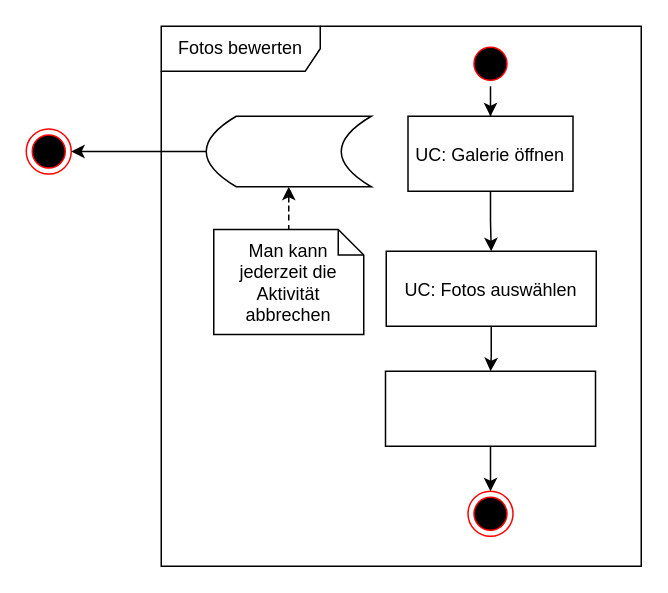
Image size: 668x593. Some labels were removed from this diagram. Here are the shapes that lost their labels. From the top down, the centre of each, then its label:
At point (288, 151): "Abbrechen".
At point (490, 408): "Bewertung setzen (0-5 Sterne)".
